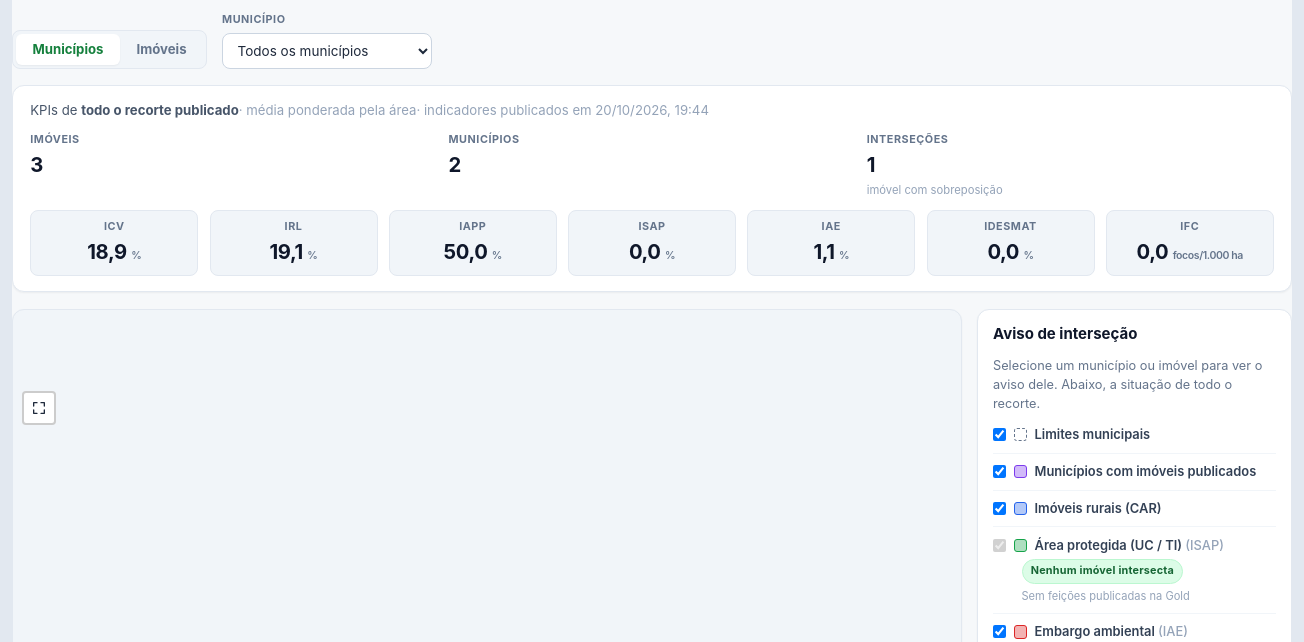
Test: ConjuntosView — mapa de cobertura › destaca no mapa só as camadas com dado, e mostra quantas feições cruzam
The width and height of the screenshot is (1304, 642).
Click the tab with class "chave" showing "Imóveis" at [162, 49], box [120,34,203,65]
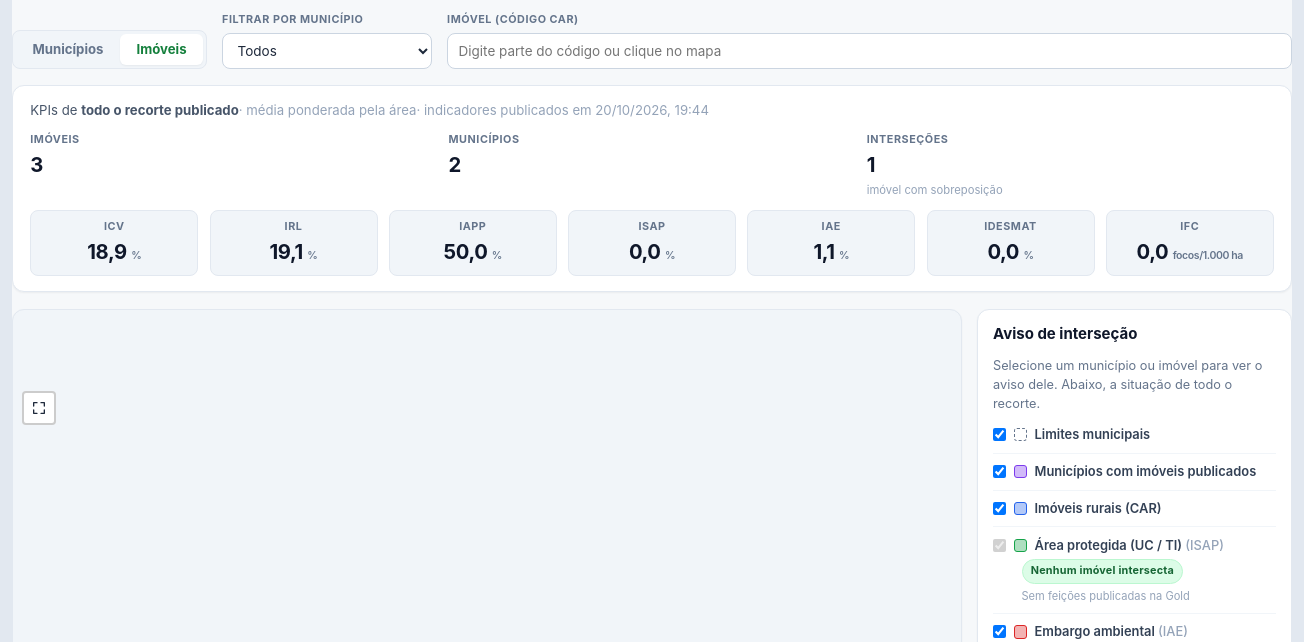
Type "PR-4119905-A" into the search field with id "input-imovel" at [870, 51], box [447,33,1292,69]
(page scrolled)
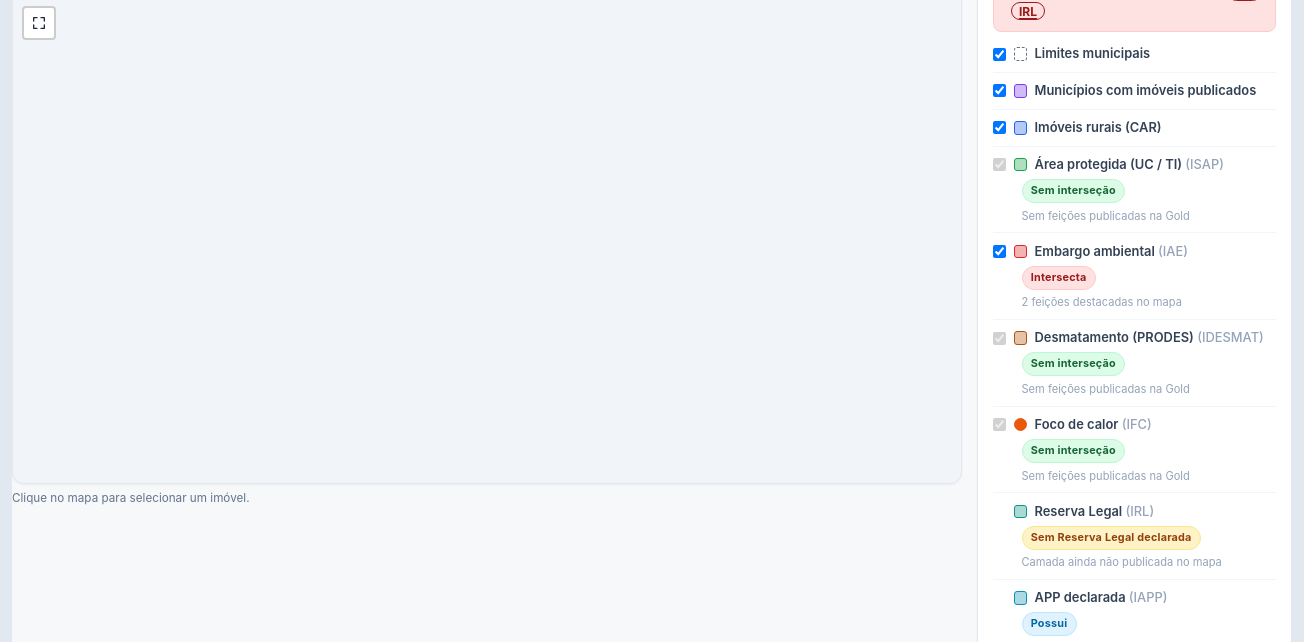
Expected: the text with class "camada-mapa" reads "2 feições destacadas no mapa", [1022,295,1182,309]
